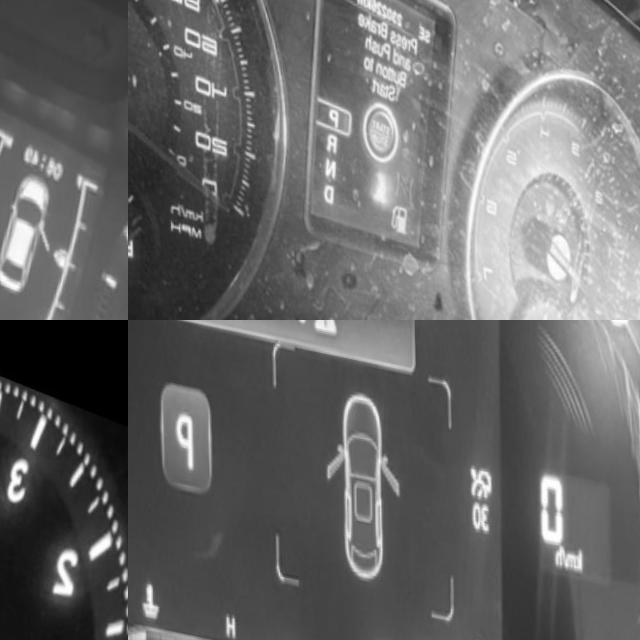Low fuel level: (386, 186, 409, 226)
